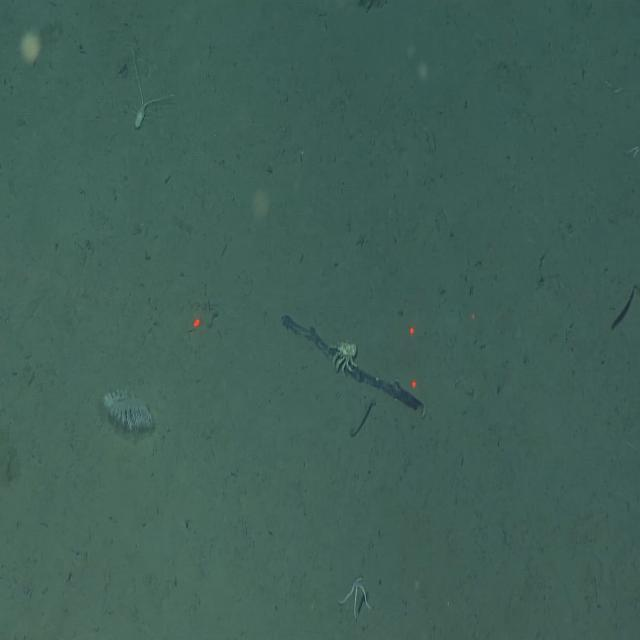Brittle Star: (336, 564, 378, 621)
Not Brittle Star: (273, 291, 432, 438), (117, 42, 179, 133), (99, 373, 158, 443), (327, 335, 362, 377)
